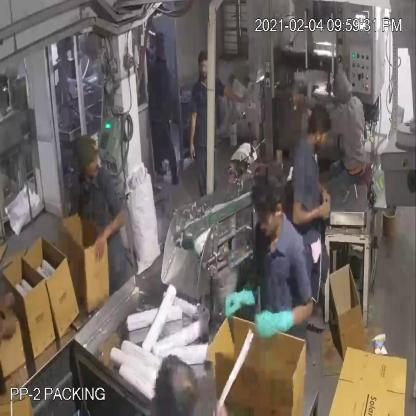glove: (253, 306, 303, 342), (215, 281, 257, 320)
no_glove: (93, 200, 127, 262), (288, 193, 337, 229), (183, 97, 198, 168), (219, 82, 254, 112), (0, 290, 20, 341)
